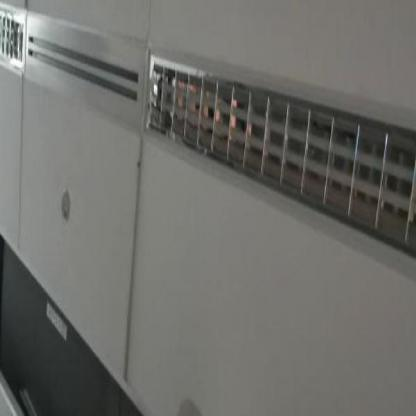light_off: (140, 42, 416, 280)
